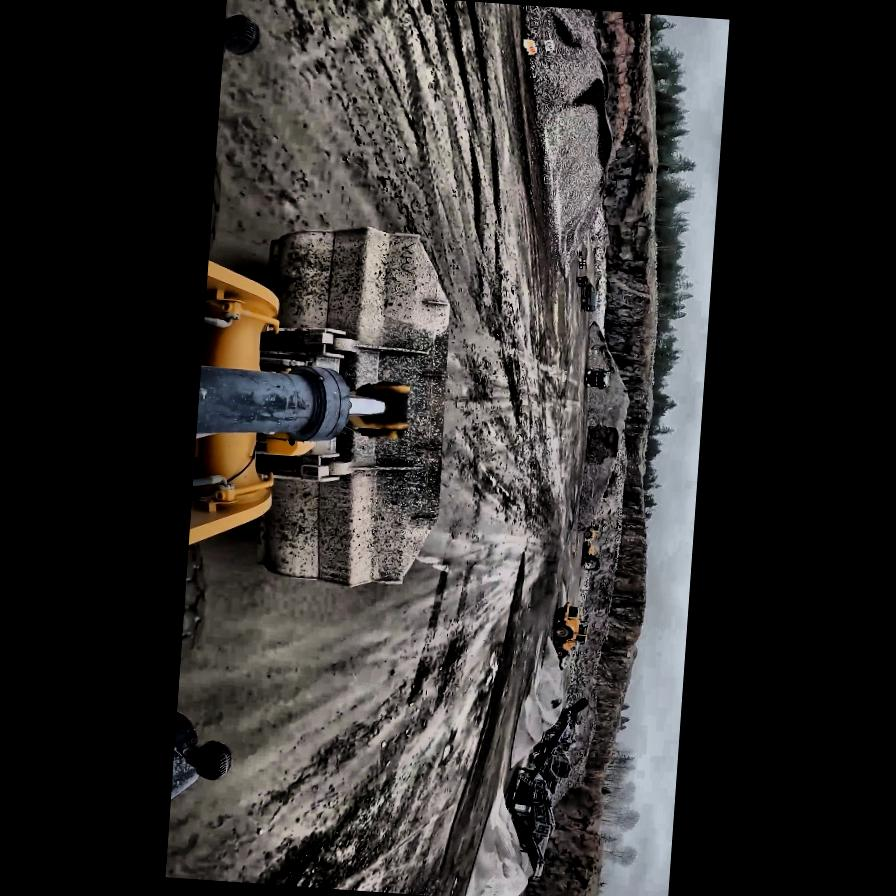anchor: (348, 378, 412, 438)
pile of gravel: (507, 5, 622, 260), (453, 779, 536, 896), (508, 630, 573, 774), (560, 620, 610, 774), (580, 406, 628, 532), (586, 336, 636, 442), (580, 500, 624, 596), (586, 216, 615, 330), (556, 574, 570, 605)
